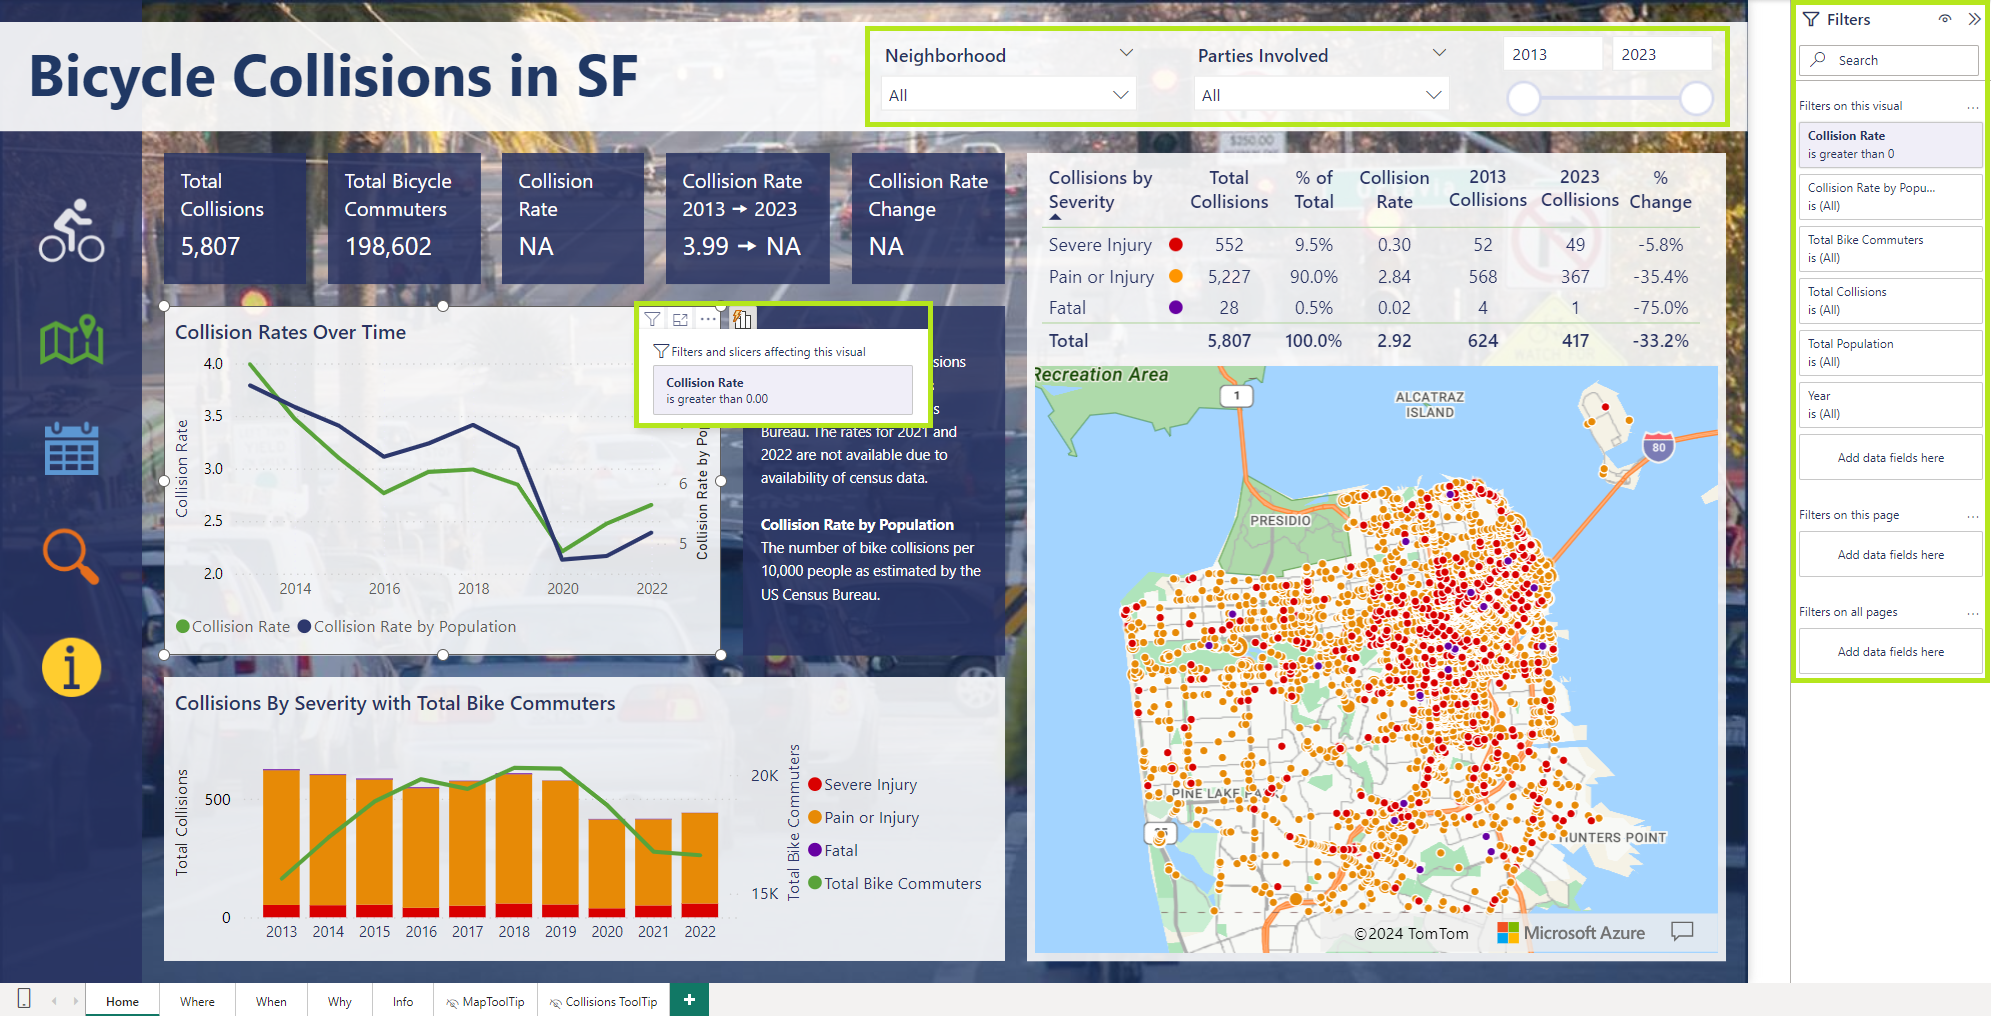

What the dashboard file says about the page in this screenshot:
{"tool":"powerbi","page":{"name":"Home","canvas":[1280,720],"ordinal":0},"visuals":[{"type":"shape","box":[0,0,104,720],"z":0},{"type":"tableEx","fields":{"Values":["dimCollisionSeverity.CollisionSeverity","dimCollisionSeverity.Icon","_Measures.Total Collisions","_Measures.Collisions % by Severity","_Measures.Collision Rate","_Measures.Collisions Start Year","_Measures.Collisions End Year","_Measures.Collisions % Change over Years"]},"box":[752,112,512,156],"z":0,"group":"g1"},{"type":"textbox","box":[0,16,1280,80],"z":1000},{"type":"textbox","box":[1054,119.8,72,34.1],"z":2000,"group":"g1"},{"type":"azureMap","fields":{"Y":["factTrafficCrashes.Latitude"],"X":["factTrafficCrashes.Longitude"],"Series":["dimCollisionSeverity.CollisionSeverity"],"Size":["_Measures.Total Collisions"]},"box":[752,268,512,436],"z":2000},{"type":"group","id":"g1","title":"Group 1","box":[752,112,512,156],"z":3000},{"type":"slicer","fields":{"Values":["dimNeighborhoods.Neighborhood"]},"box":[635,24,208,64],"z":4000},{"type":"textbox","box":[1121,119.8,72,34.1],"z":4000,"group":"g1"},{"type":"slicer","fields":{"Values":["dimParties.Parties"]},"box":[864,24,208,64],"z":5000},{"type":"slicer","fields":{"Values":["dimDate.Year"]},"box":[1088,16,176,80],"z":6000},{"type":"multiRowCard","title":"Total Collisions","fields":{"Values":["_Measures.Total Collisions"]},"box":[120,112,104,96],"z":7000},{"type":"multiRowCard","title":"Total Bicycle Commuters","fields":{"Values":["_Measures.Total Bike Commuters with NA"]},"box":[240,112,112,96],"z":8000},{"type":"multiRowCard","title":"Collision Rate","fields":{"Values":["_Measures.Collision Rate with NA"]},"box":[368,112,104,96],"z":9000},{"type":"multiRowCard","fields":{"Values":["_Measures.Collision Rate Range"]},"box":[488,112,120,96],"z":10000},{"type":"multiRowCard","title":"Collision Rate Change","fields":{"Values":["_Measures.Collision Rate % Change over Years"]},"box":[624,112,112,96],"z":11000},{"type":"actionButton","box":[0,128,104,80],"z":12000},{"type":"actionButton","box":[0,208,104,80],"z":13000},{"type":"actionButton","box":[0,288,104,80],"z":14000},{"type":"actionButton","box":[0,368,104,80],"z":15000},{"type":"lineStackedColumnComboChart","title":"Collisions By Severity with Total Bike Commuters","fields":{"Category":["dimDate.Year"],"Y":["_Measures.Total Collisions"],"Series":["dimCollisionSeverity.CollisionSeverity"],"Y2":["_Measures.Total Bike Commuters"]},"box":[120,496,616,208],"z":16000},{"type":"lineChart","title":"Collision Rates Over Time","fields":{"Category":["dimDate.Year"],"Y":["_Measures.Collision Rate"],"Y2":["_Measures.Collision Rate by Population"]},"box":[120,224,408,256],"z":17000},{"type":"textbox","box":[544,224,192,256],"z":18000},{"type":"actionButton","box":[0,448,104,80],"z":19000}]}

Visuals, with their boxes on the page's 1280x720 design canvas (x1, y1, x2, y2). These are canvas units, not pixel positions in the 1991x1016 screenshot, which may show the page scaled, cropped or inside an application window:
shape: bbox(0, 0, 104, 720)
tableEx - dimCollisionSeverity.CollisionSeverity x dimCollisionSeverity.Icon: bbox(752, 112, 1264, 268)
textbox: bbox(0, 16, 1280, 96)
textbox: bbox(1054, 120, 1126, 154)
azureMap - factTrafficCrashes.Latitude x factTrafficCrashes.Longitude: bbox(752, 268, 1264, 704)
"Group 1" group: bbox(752, 112, 1264, 268)
slicer - dimNeighborhoods.Neighborhood: bbox(635, 24, 843, 88)
textbox: bbox(1121, 120, 1193, 154)
slicer - dimParties.Parties: bbox(864, 24, 1072, 88)
slicer - dimDate.Year: bbox(1088, 16, 1264, 96)
"Total Collisions" multiRowCard: bbox(120, 112, 224, 208)
"Total Bicycle Commuters" multiRowCard: bbox(240, 112, 352, 208)
"Collision Rate" multiRowCard: bbox(368, 112, 472, 208)
multiRowCard - _Measures.Collision Rate Range: bbox(488, 112, 608, 208)
"Collision Rate Change" multiRowCard: bbox(624, 112, 736, 208)
actionButton: bbox(0, 128, 104, 208)
actionButton: bbox(0, 208, 104, 288)
actionButton: bbox(0, 288, 104, 368)
actionButton: bbox(0, 368, 104, 448)
"Collisions By Severity with Total Bike Commuters" lineStackedColumnComboChart: bbox(120, 496, 736, 704)
"Collision Rates Over Time" lineChart: bbox(120, 224, 528, 480)
textbox: bbox(544, 224, 736, 480)
actionButton: bbox(0, 448, 104, 528)
